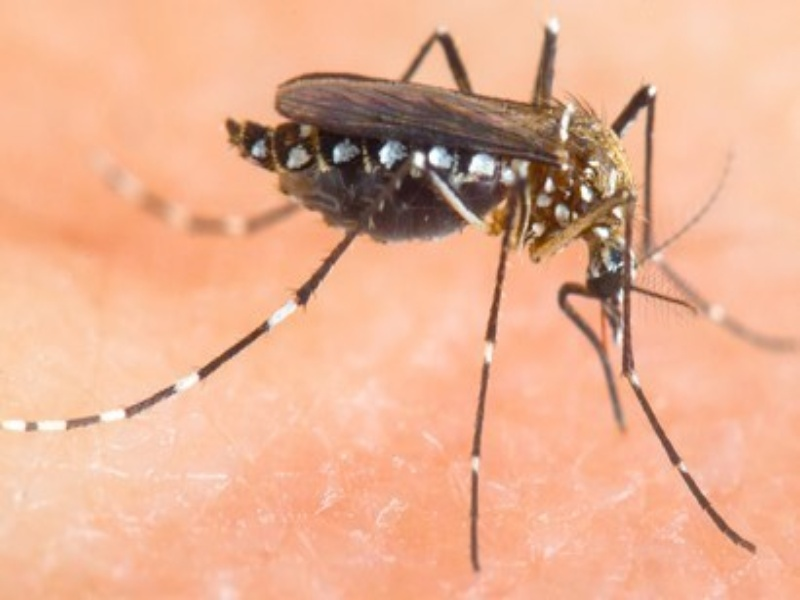dengue_mosquito: (227, 26, 639, 374)
